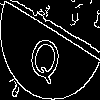Q: (25, 25, 67, 87)
